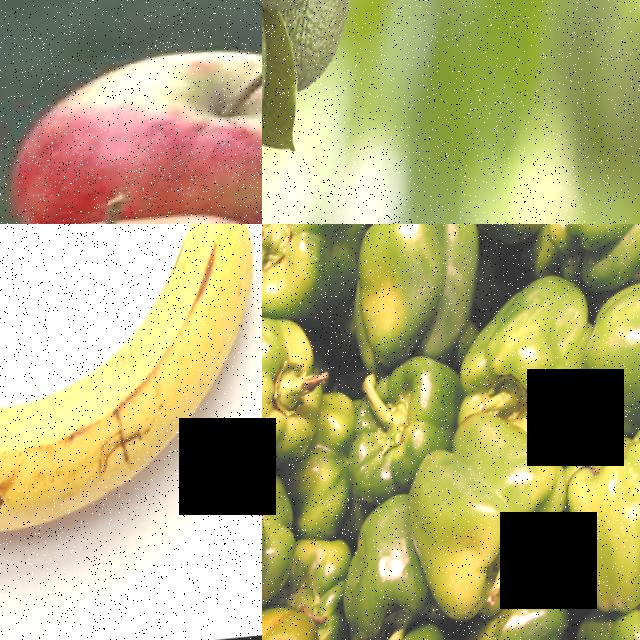apple: (8, 36, 262, 224)
avocado: (284, 0, 377, 92), (262, 6, 289, 199)
banana: (0, 224, 262, 604)
bell pepper: (422, 421, 578, 586), (343, 224, 485, 363), (468, 280, 597, 412), (262, 317, 337, 455), (355, 376, 439, 498), (577, 451, 640, 611), (356, 525, 437, 640), (262, 465, 317, 622), (588, 274, 640, 437), (262, 224, 354, 314), (488, 606, 601, 640)
